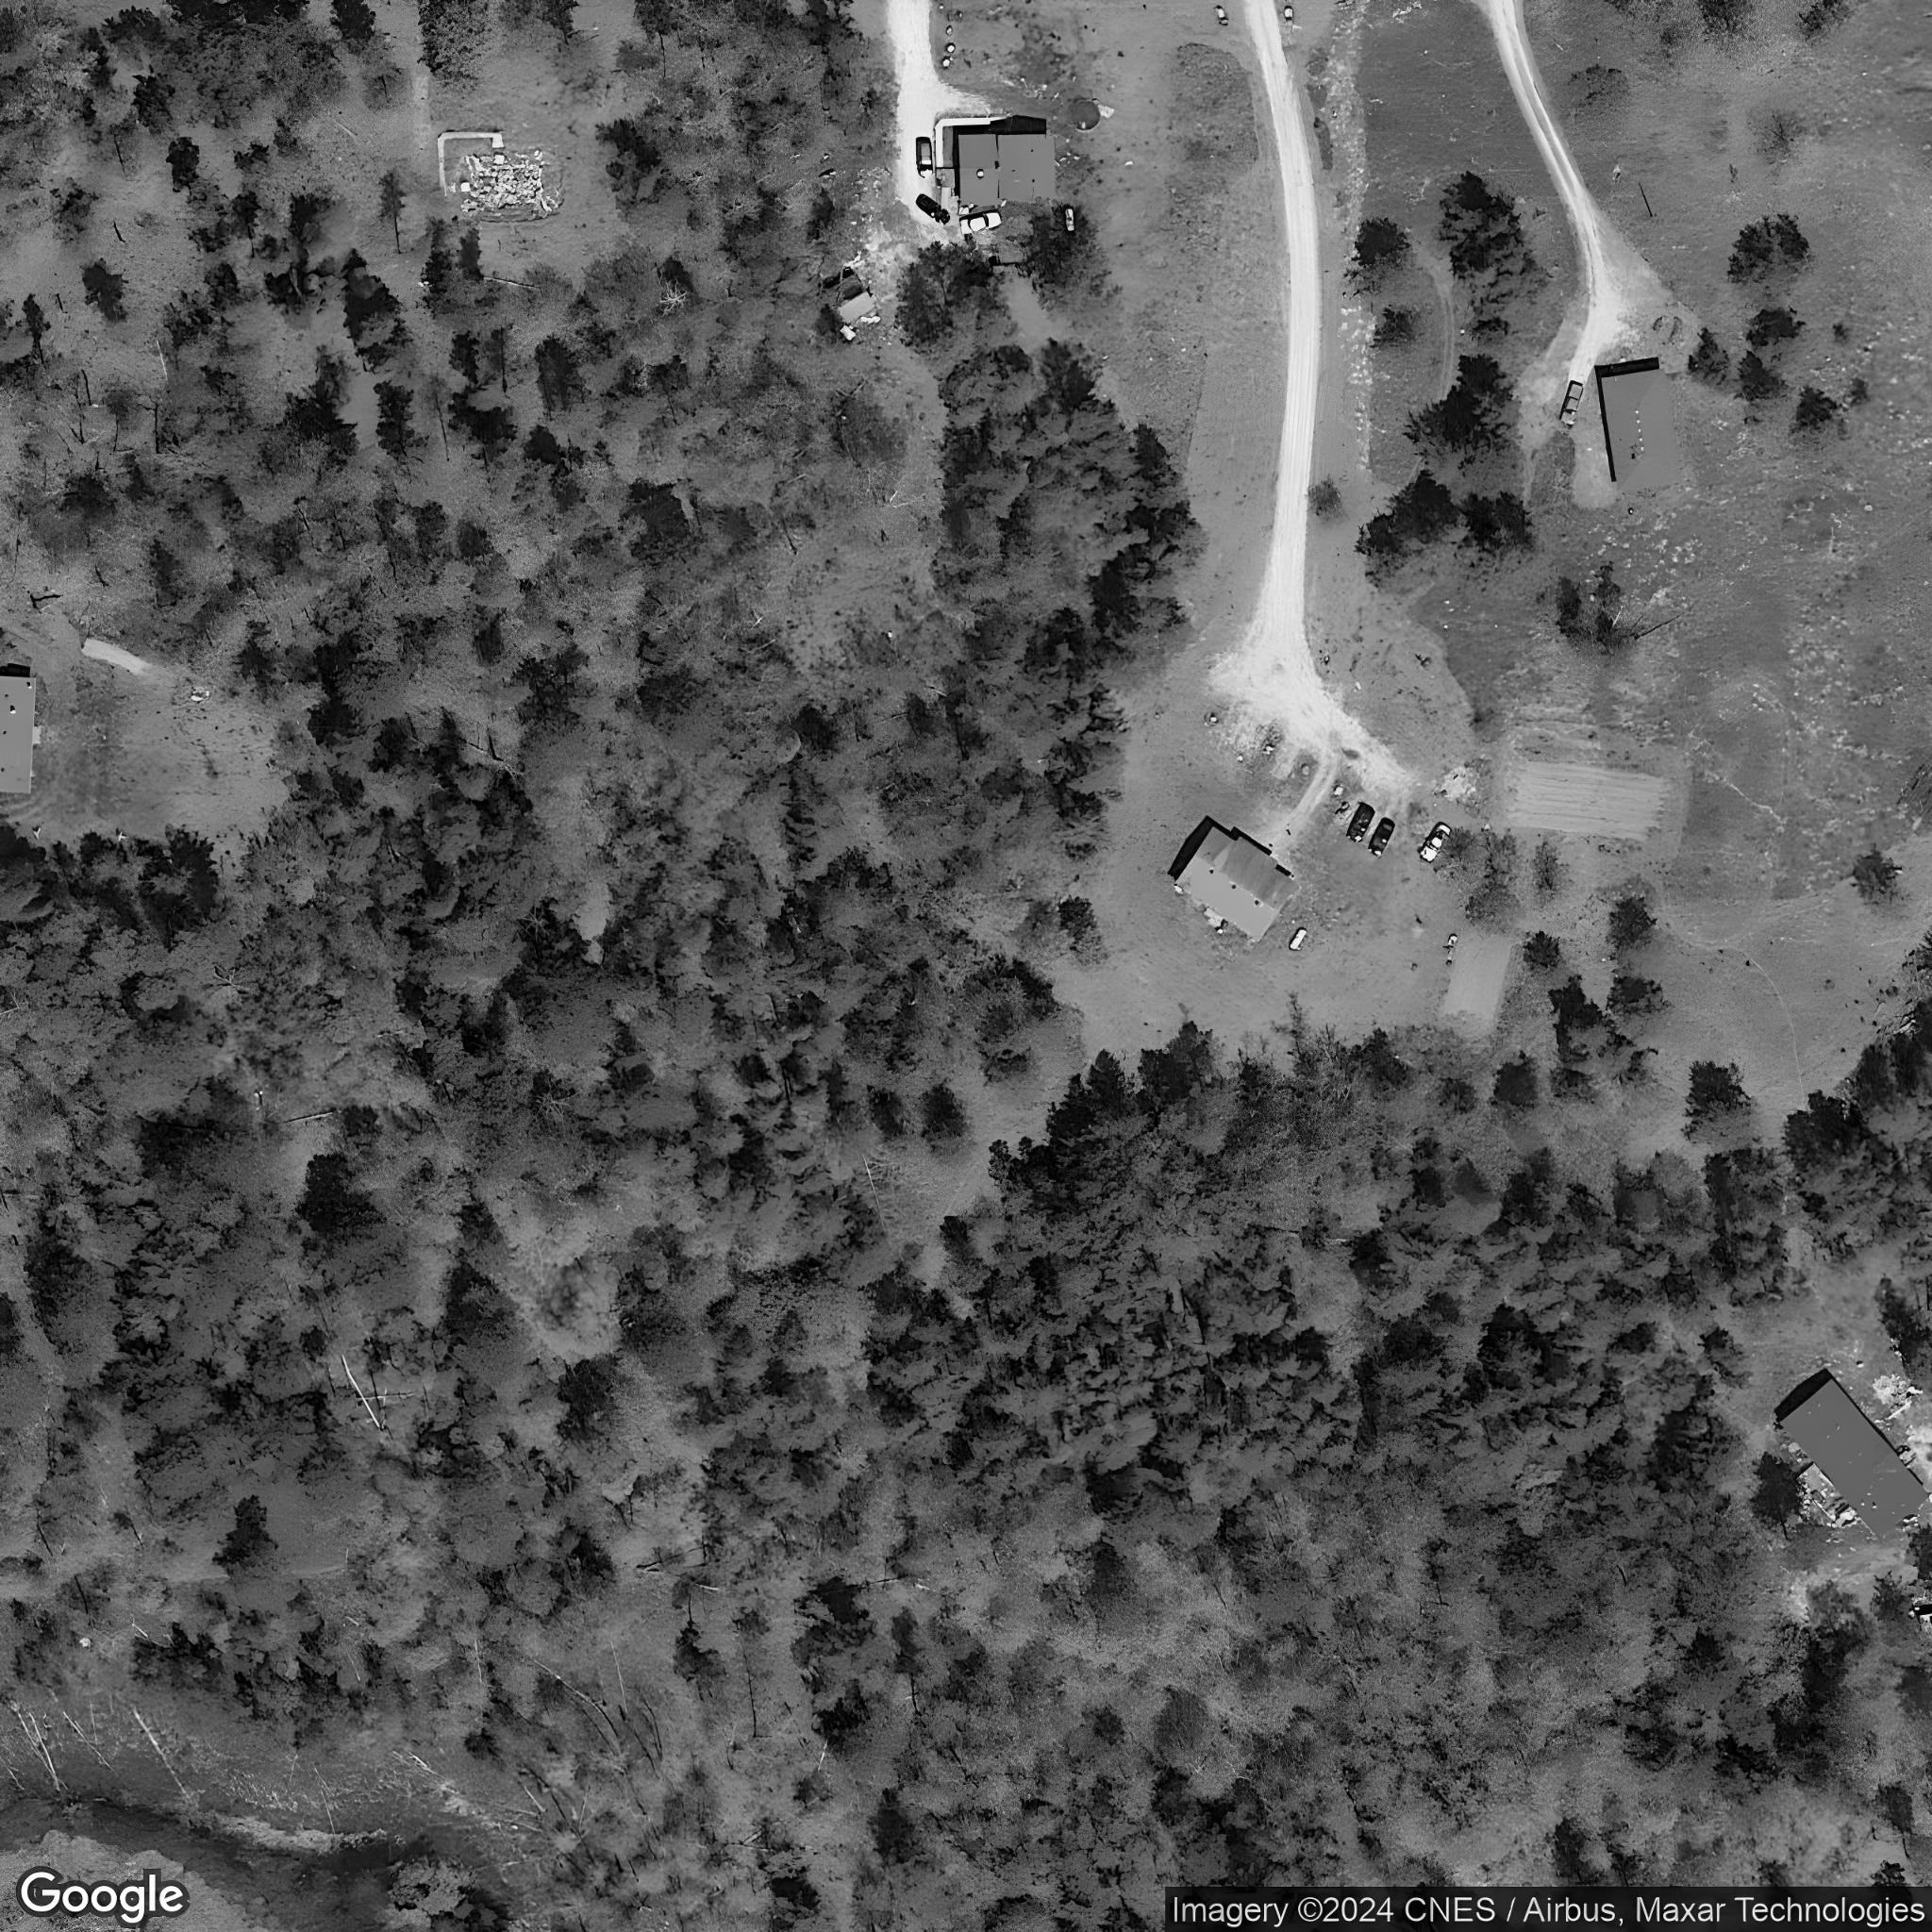House: (1776, 1375, 1930, 1545), (1171, 823, 1299, 945), (1594, 366, 1688, 499), (955, 133, 1054, 209), (0, 674, 39, 794)
Propane: (1284, 924, 1311, 954), (1062, 200, 1079, 235)
